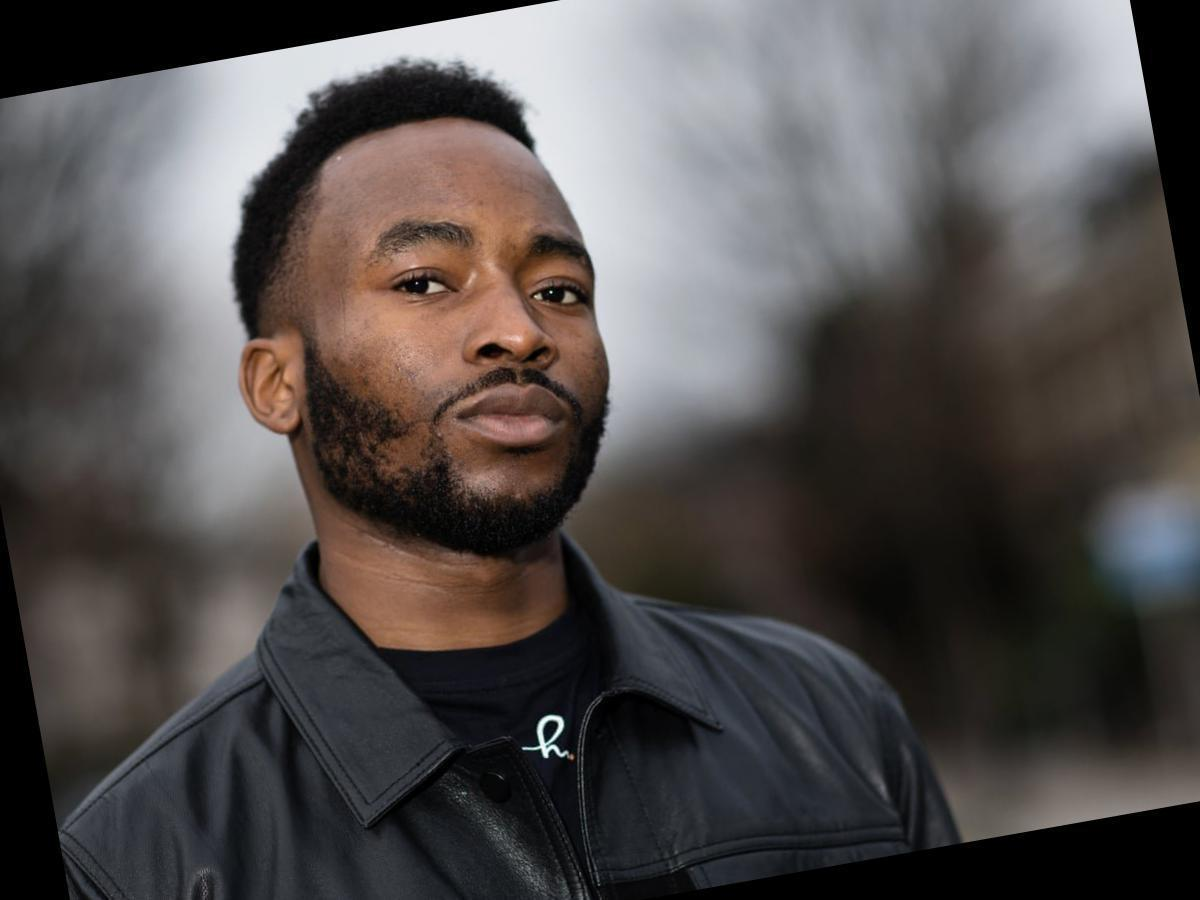Sober: (303, 158, 596, 510)
